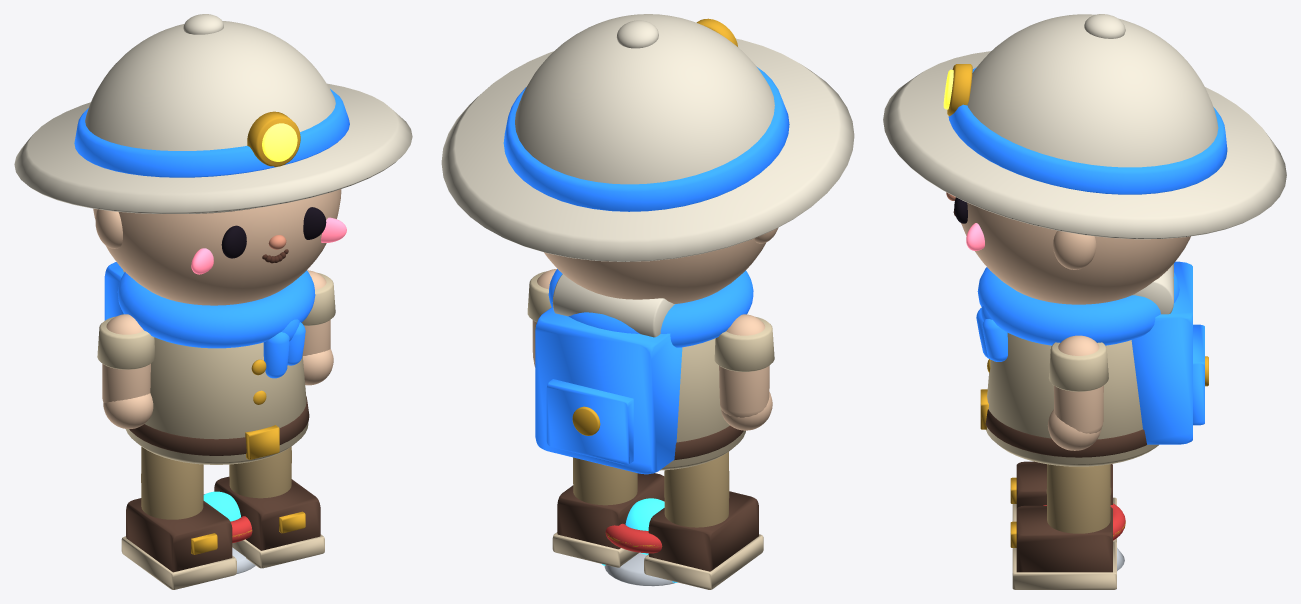
The model's file is chibi_explorers.glb.
3 views of the same model, side by side, from view 1: azimuth 30°, elevation 25°; view 2: azimuth 150°, elevation 25°; view 3: azimuth 270°, elevation 25° (orthographic). The views are drawn at different scales.
Visible parts, largest first — view 1: Explorer_YOU_Head_Group_Mesh, Explorer_YOU_Body_Group_Mesh, Explorer_YOU_Leg_L_Mesh, Explorer_YOU_Leg_R_Mesh, Explorer_YOU_Arm_L_Mesh, Explorer_YOU_Arm_R_Mesh, Prop_Gadget_HoloDecoy_Mesh; view 2: Explorer_YOU_Head_Group_Mesh, Explorer_YOU_Body_Group_Mesh, Explorer_YOU_Leg_L_Mesh, Explorer_YOU_Leg_R_Mesh, Explorer_YOU_Arm_L_Mesh, Prop_Gadget_HoloDecoy_Mesh, Prop_Gadget_RelicMagnet_Mesh, Explorer_YOU_Arm_R_Mesh; view 3: Explorer_YOU_Head_Group_Mesh, Explorer_YOU_Body_Group_Mesh, Explorer_YOU_Leg_R_Mesh, Explorer_YOU_Arm_R_Mesh, Explorer_YOU_Leg_L_Mesh.
Part boxes in pixels (x1,y1,x2,y2): Explorer_YOU_Head_Group_Mesh: [14, 14, 412, 305]; Explorer_YOU_Body_Group_Mesh: [104, 262, 315, 464]; Explorer_YOU_Leg_L_Mesh: [121, 447, 236, 589]; Explorer_YOU_Leg_R_Mesh: [214, 447, 324, 568]; Explorer_YOU_Arm_L_Mesh: [97, 314, 155, 428]; Explorer_YOU_Arm_R_Mesh: [302, 270, 335, 385]; Prop_Gadget_HoloDecoy_Mesh: [203, 491, 255, 573]; Explorer_YOU_Head_Group_Mesh: [441, 14, 854, 303]; Explorer_YOU_Body_Group_Mesh: [535, 269, 753, 474]; Explorer_YOU_Leg_L_Mesh: [644, 452, 763, 589]; Explorer_YOU_Leg_R_Mesh: [552, 457, 664, 567]; Explorer_YOU_Arm_L_Mesh: [714, 314, 774, 430]; Prop_Gadget_HoloDecoy_Mesh: [604, 498, 674, 586]; Prop_Gadget_RelicMagnet_Mesh: [605, 501, 664, 553]; Explorer_YOU_Arm_R_Mesh: [527, 269, 556, 367]; Explorer_YOU_Head_Group_Mesh: [883, 14, 1286, 304]; Explorer_YOU_Body_Group_Mesh: [976, 261, 1208, 466]; Explorer_YOU_Leg_R_Mesh: [1010, 464, 1116, 589]; Explorer_YOU_Arm_R_Mesh: [1047, 335, 1108, 450]; Explorer_YOU_Leg_L_Mesh: [1010, 461, 1116, 542].
Size of the model in its own units: 2.04 by 3 by 2.02.
